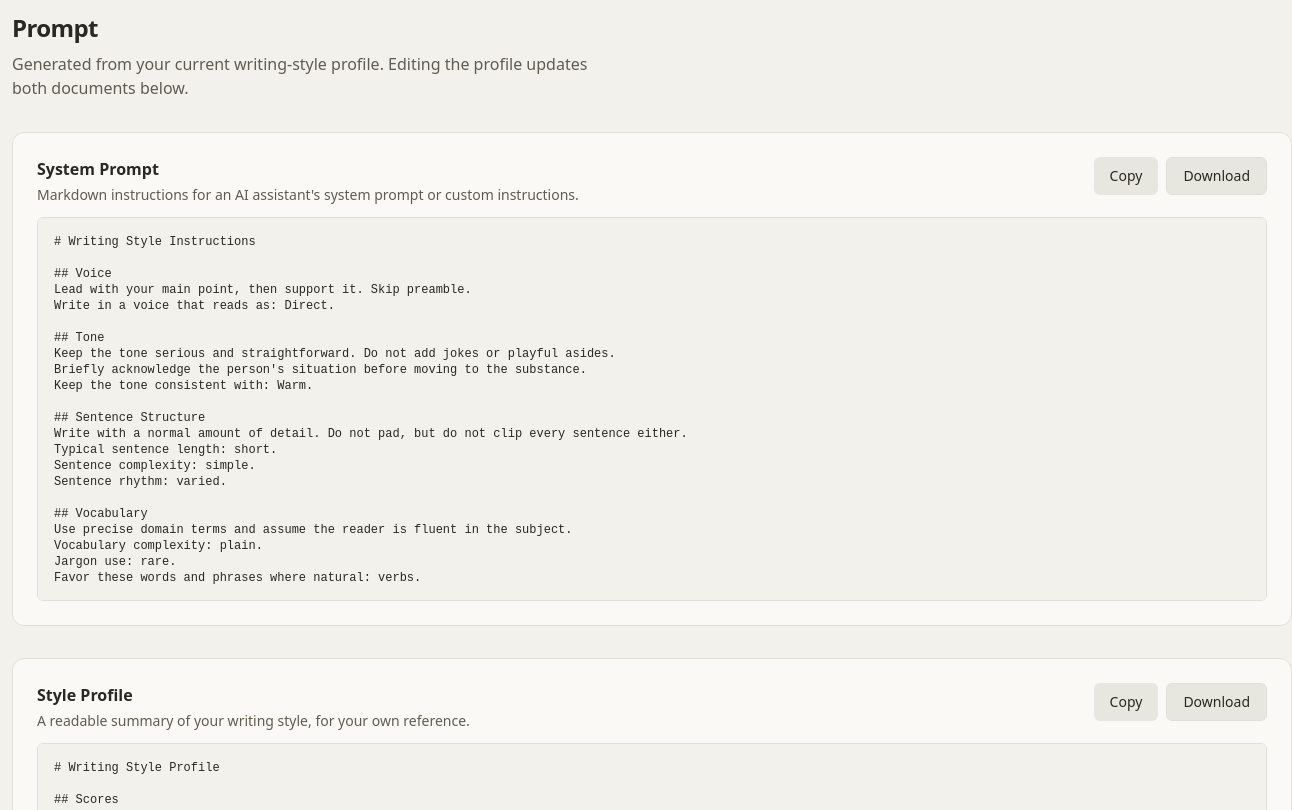
Test: PromptPage › copies the generated system prompt to the clipboard
Step 1. Click the button with aria-label "Copy system prompt" → (1126, 176), box [1094,157,1158,195]
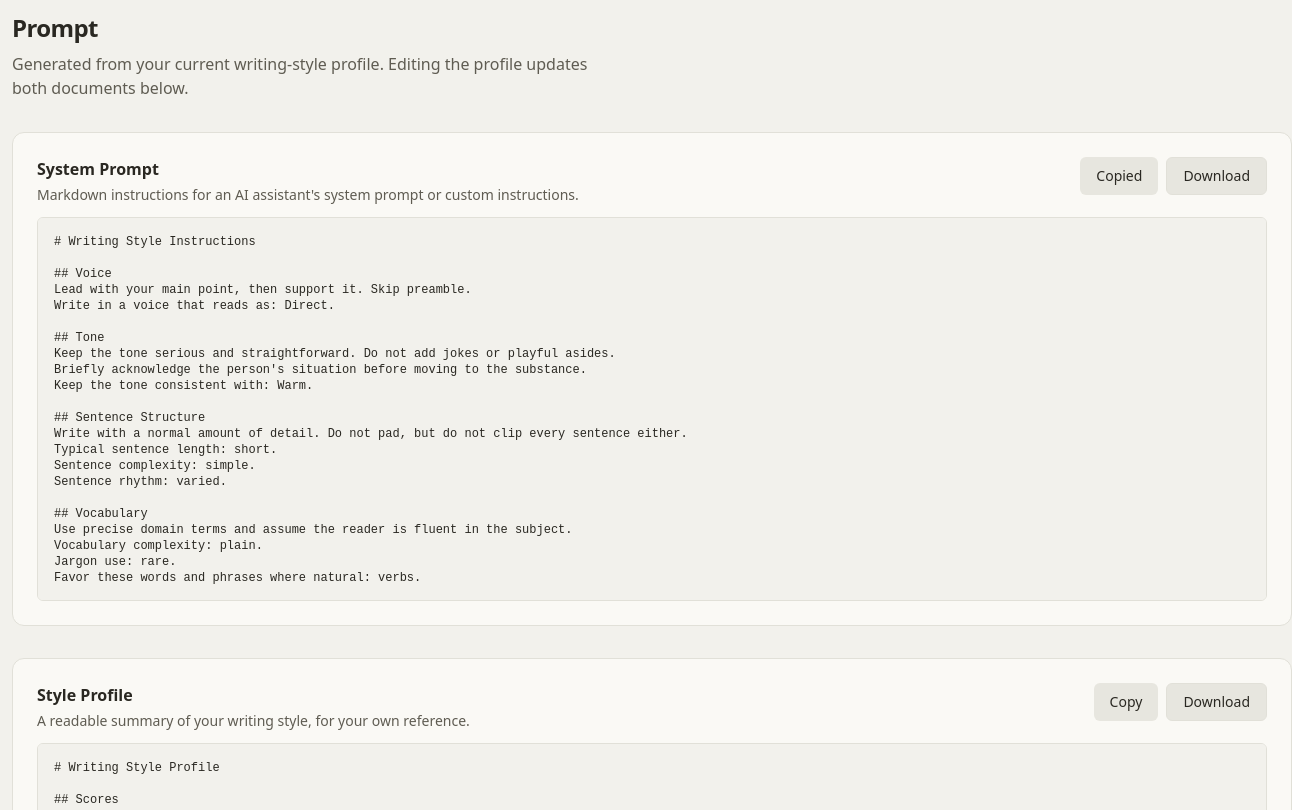
Now the button with aria-label "Copy system prompt" reads "Copied", box [1080,157,1158,195]
